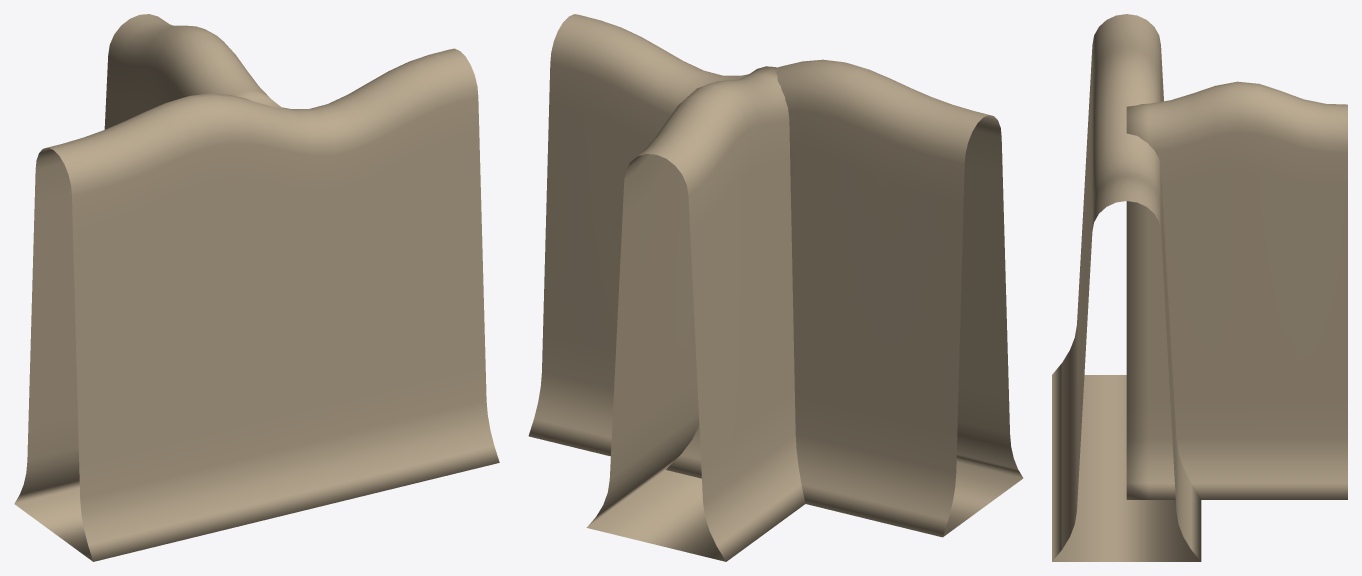
File: KFB_Wall_tee.r3.glb
3 views of the same model, side by side, from view 1: azimuth 30°, elevation 25°; view 2: azimuth 150°, elevation 25°; view 3: azimuth 270°, elevation 25° (orthographic). The views are drawn at different scales.
Visible parts, largest first — view 1: KFB_Wall_tee; view 2: KFB_Wall_tee; view 3: KFB_Wall_tee.
Part boxes in pixels (<box>): KFB_Wall_tee: <box>14,14,499,561</box>; KFB_Wall_tee: <box>528,14,1023,561</box>; KFB_Wall_tee: <box>1052,14,1347,561</box>.
Size of the model in its own units: 4 by 3.83 by 2.68.
